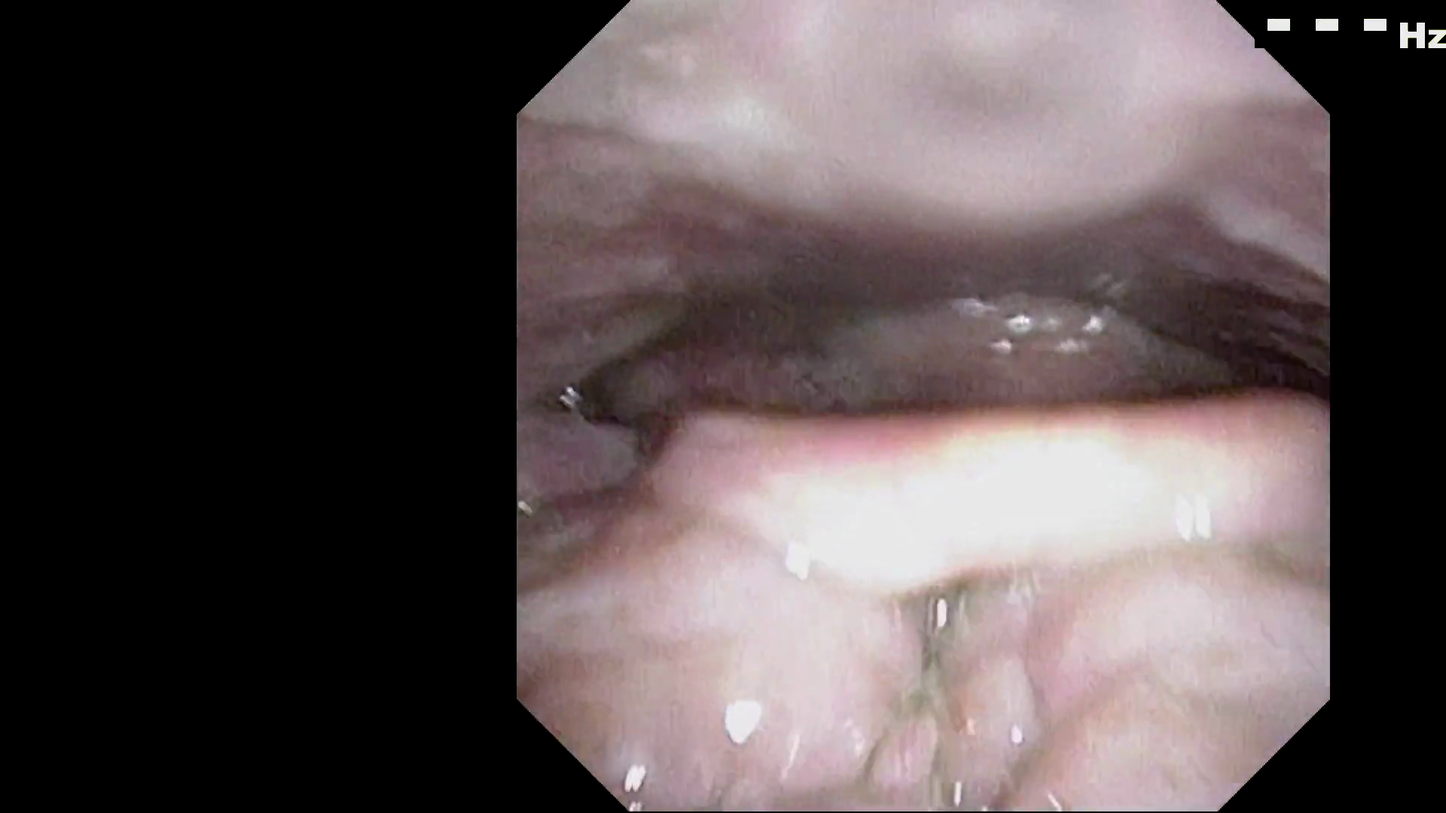epiglottis: (699, 369, 1249, 536)
